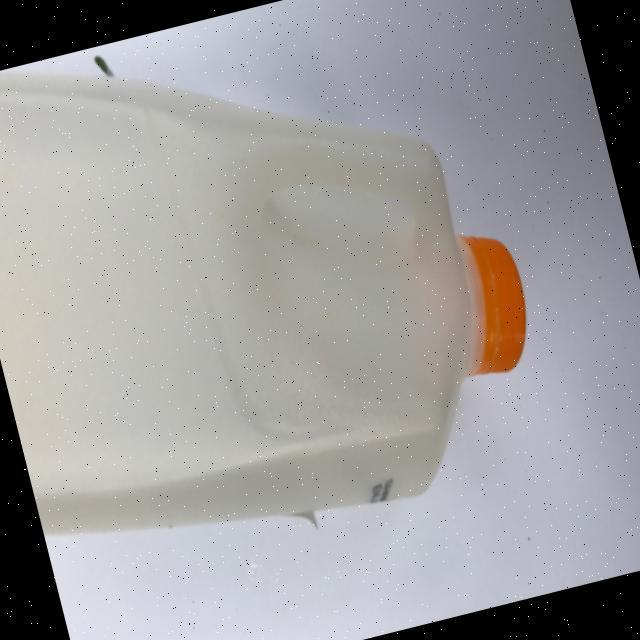plastic: (0, 0, 565, 590)
